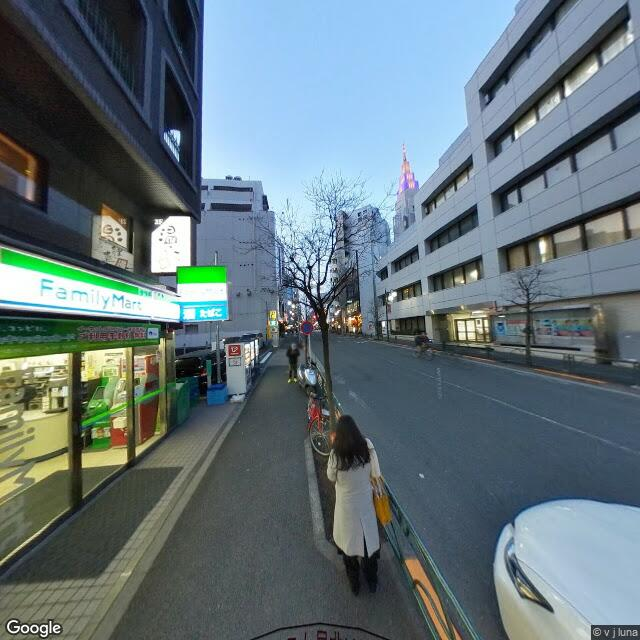family_mart: (2, 245, 180, 324), (176, 264, 228, 312)
